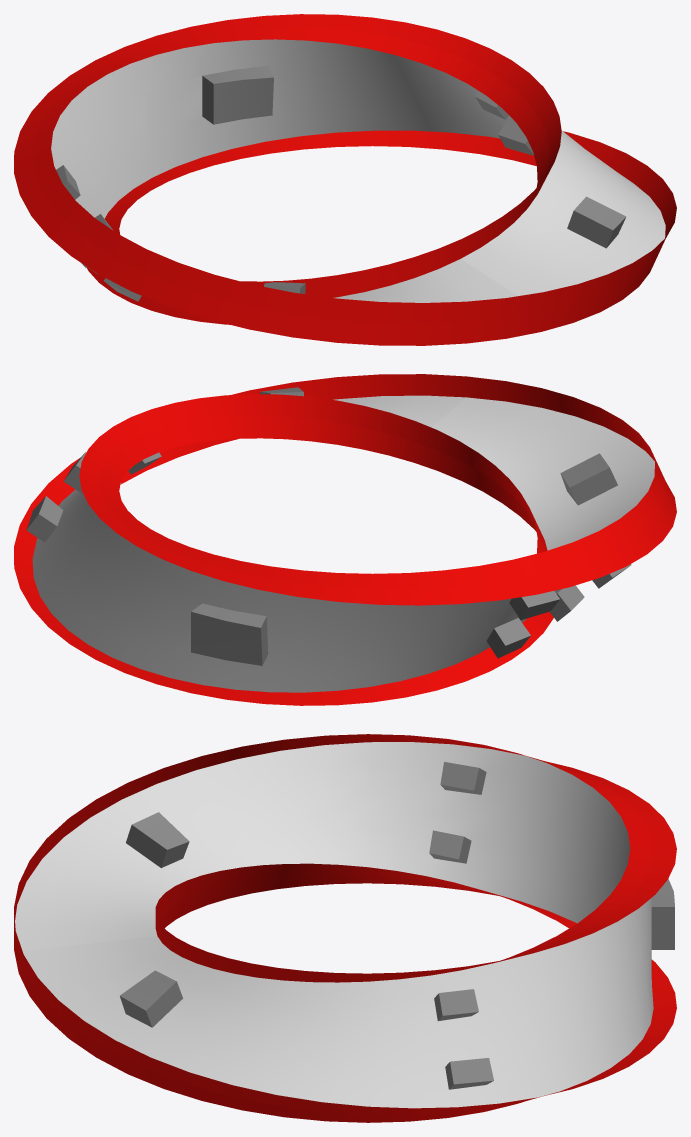
The model's file is Level_3.fbx.
3 views of the same model, one above another, from view 1: azimuth 30°, elevation 25°; view 2: azimuth 150°, elevation 25°; view 3: azimuth 270°, elevation 25° (orthographic). The views are drawn at different scales.
Parts seen in each view (by area): view 1: Walls, Ground; view 2: Walls, Ground; view 3: Ground, Walls.
Boxes of the visible parts, x1,y1,x2,y2 form: Walls: (14,14,676,345); Ground: (51,39,665,302); Walls: (14,374,676,705); Ground: (32,395,654,692); Ground: (15,742,653,1108); Walls: (14,734,676,1122).
Size of the model in its own units: 17.63 by 3.76 by 16.69.
